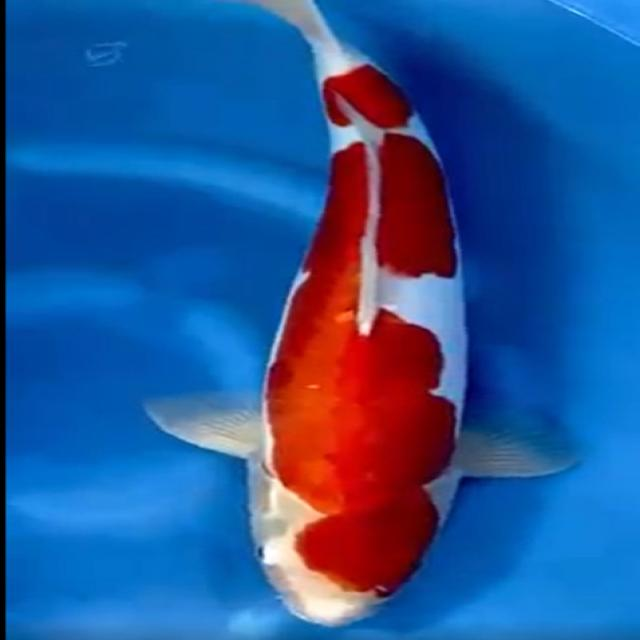Kohaku: (135, 0, 577, 628)
